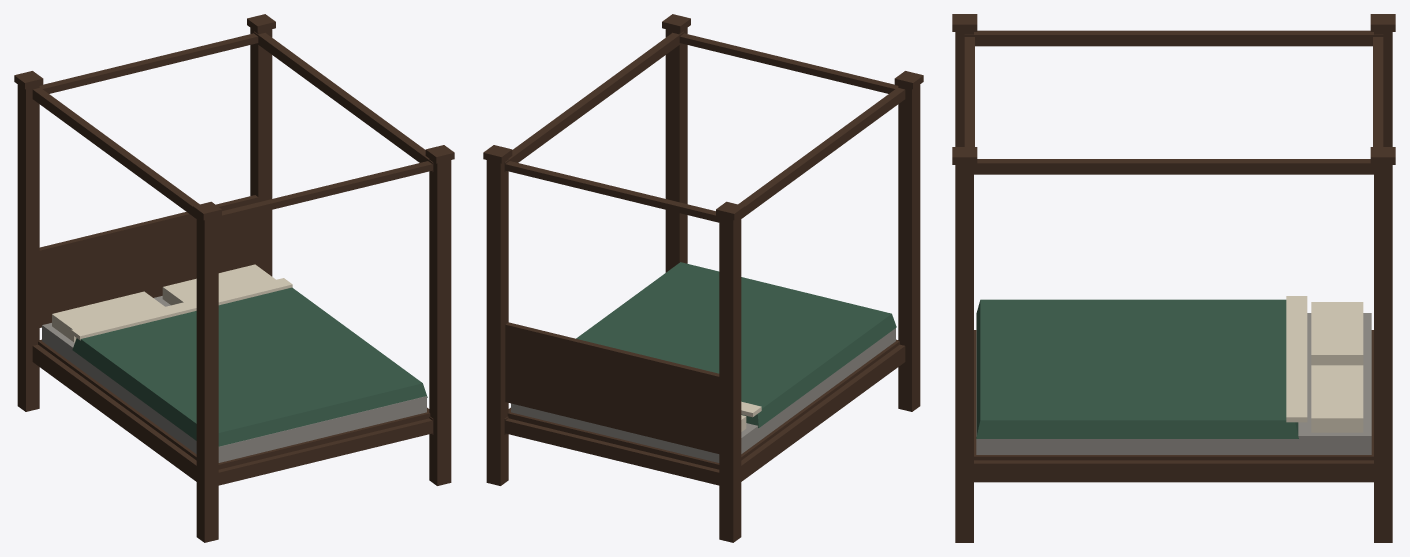
The model's file is FN_Bed_Four_Poster.glb.
3 renders of one model, left to right at view 1: azimuth 30°, elevation 25°; view 2: azimuth 150°, elevation 25°; view 3: azimuth 270°, elevation 25°, orthographic. The views are drawn at different scales.
Visible parts, largest first — view 1: FN_Bed_Four_Poster; view 2: FN_Bed_Four_Poster; view 3: FN_Bed_Four_Poster.
Part boxes in pixels (box(x1,y1,x2,y2)): FN_Bed_Four_Poster: box(14, 14, 454, 542); FN_Bed_Four_Poster: box(483, 14, 923, 542); FN_Bed_Four_Poster: box(952, 14, 1395, 542).
Size of the model in its own units: 1.63 by 2.05 by 2.13.
1 material, 1 textured.
